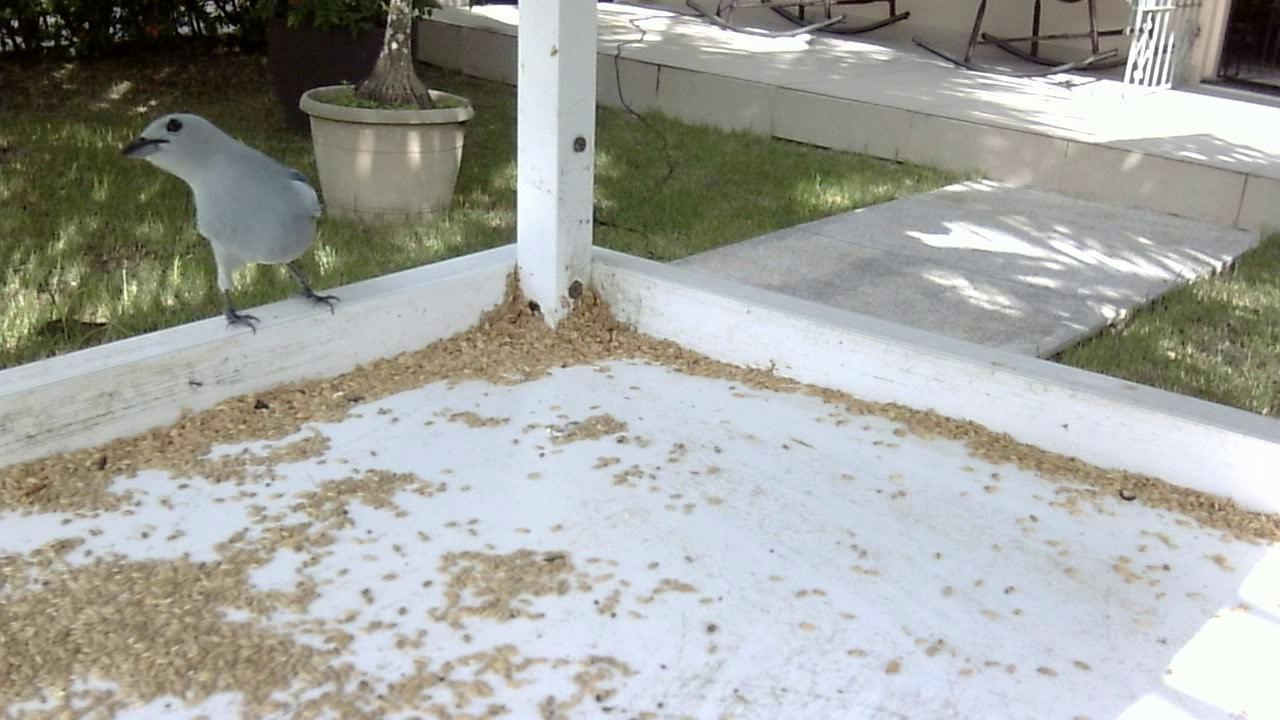sanhaco_da_amazonia: (118, 103, 343, 341)
